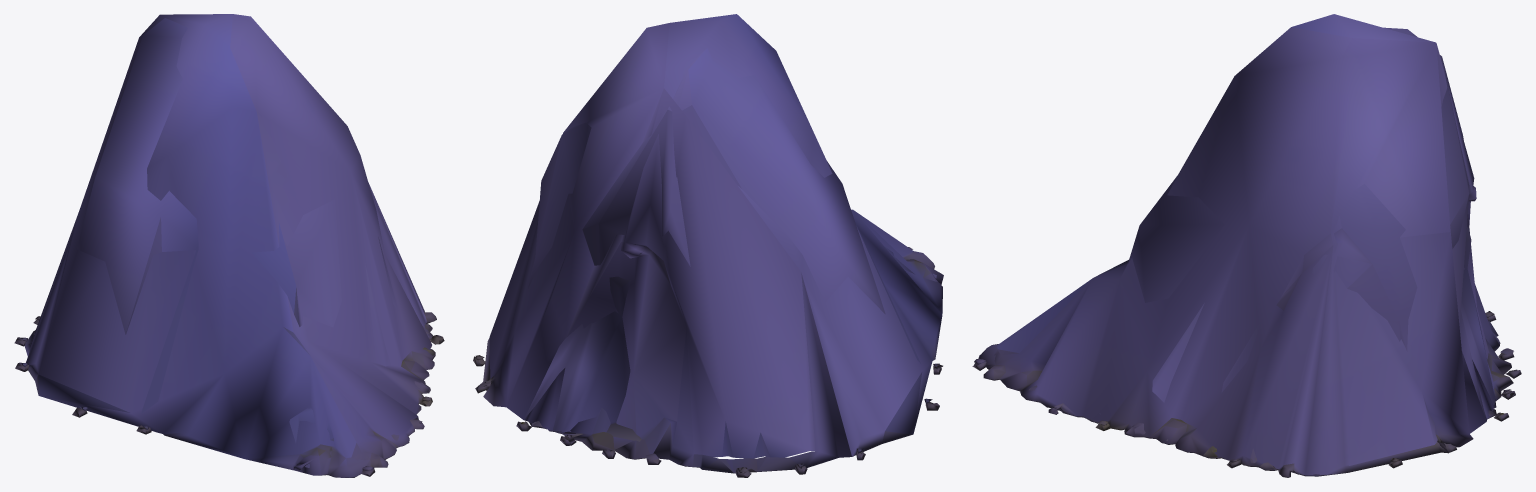
The model's file is model.progressive.glb.
3 views of the same model, side by side, from view 1: azimuth 30°, elevation 25°; view 2: azimuth 150°, elevation 25°; view 3: azimuth 270°, elevation 25° (orthographic). The views are drawn at different scales.
Parts seen in each view (by area): view 1: Rock1; view 2: Rock1; view 3: Rock1.
Part boxes in pixels (box(x1,y1,x2,y2)): Rock1: box(14, 14, 444, 477); Rock1: box(473, 14, 943, 477); Rock1: box(972, 14, 1521, 477).
Size of the model in its own units: 1.63 by 1.35 by 1.9.
1 material, 1 textured.
